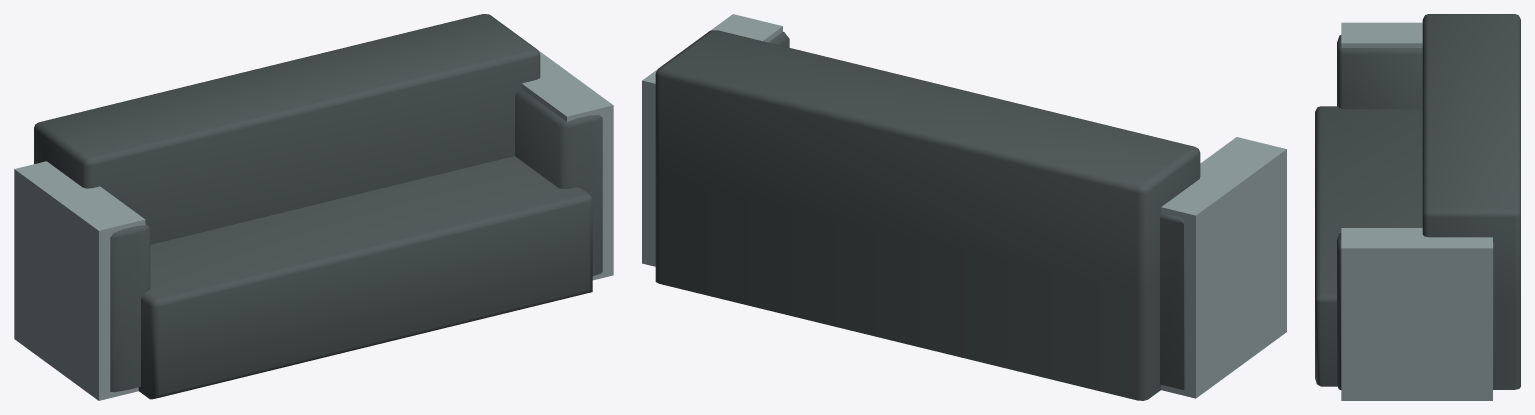
File: Armchair-2.fbx
3 views of the same model, side by side, from view 1: azimuth 30°, elevation 25°; view 2: azimuth 150°, elevation 25°; view 3: azimuth 270°, elevation 25° (orthographic). The views are drawn at different scales.
Visible parts, largest first — view 1: Armchair-2; view 2: Armchair-2; view 3: Armchair-2.
Boxes of the visible parts, x1=… form: Armchair-2: x1=14, y1=14, x2=613, y2=400; Armchair-2: x1=642, y1=14, x2=1286, y2=400; Armchair-2: x1=1315, y1=14, x2=1520, y2=400.
Size of the model in its own units: 2.72 by 1 by 1.05.
